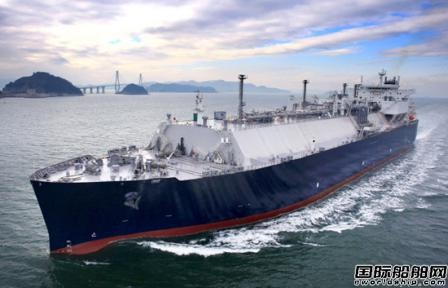Cargoship: (26, 64, 422, 257)
